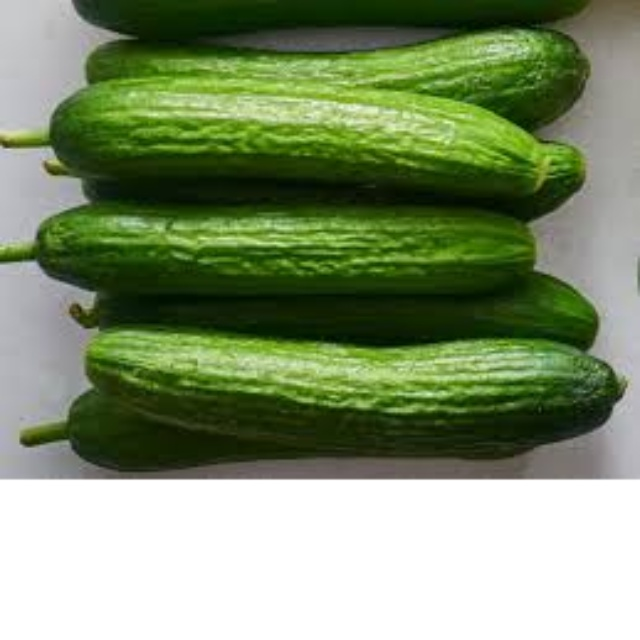dua_leo: (79, 322, 632, 442), (43, 75, 549, 201), (37, 198, 547, 299)
